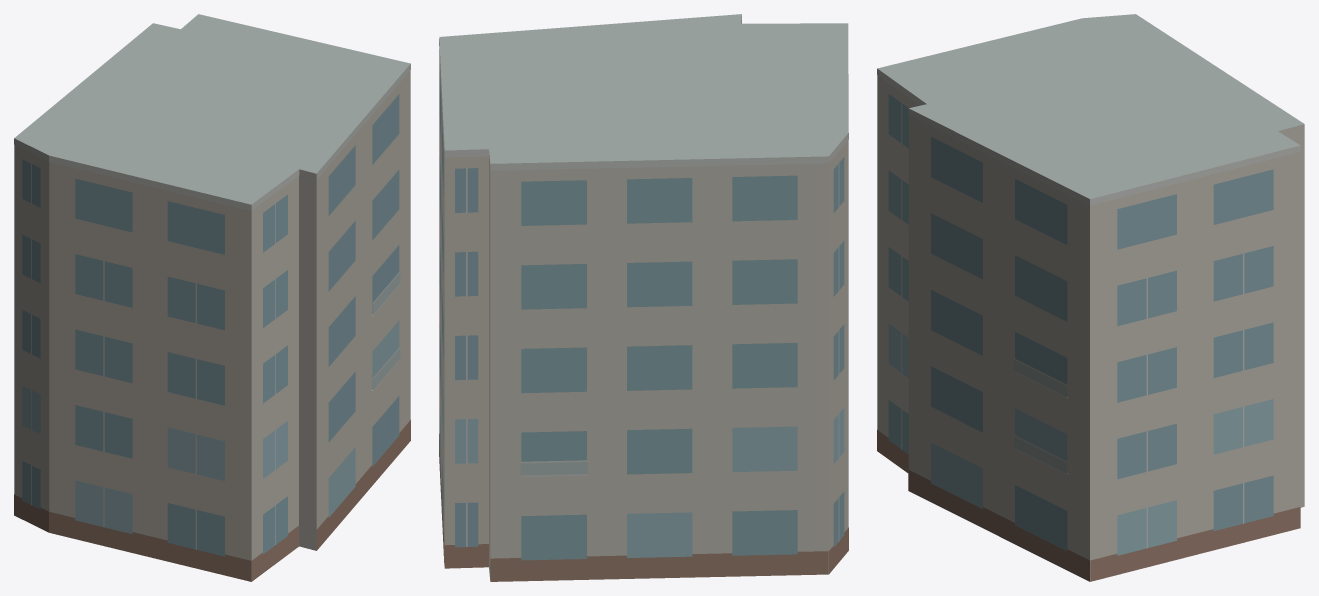
File: survey-upis-32743126.glb
3 views of the same model, side by side, from view 1: azimuth 30°, elevation 25°; view 2: azimuth 150°, elevation 25°; view 3: azimuth 270°, elevation 25° (orthographic). The views are drawn at different scales.
Visible parts, largest first — view 1: survey-upis-32743126.tmp; view 2: survey-upis-32743126.tmp; view 3: survey-upis-32743126.tmp.
Boxes of the visible parts, x1=… form: survey-upis-32743126.tmp: x1=14, y1=14, x2=410, y2=581; survey-upis-32743126.tmp: x1=439, y1=14, x2=848, y2=581; survey-upis-32743126.tmp: x1=877, y1=14, x2=1304, y2=581.
Bounding box in the file's own units: 15.06 × 14.5 × 14.69.
